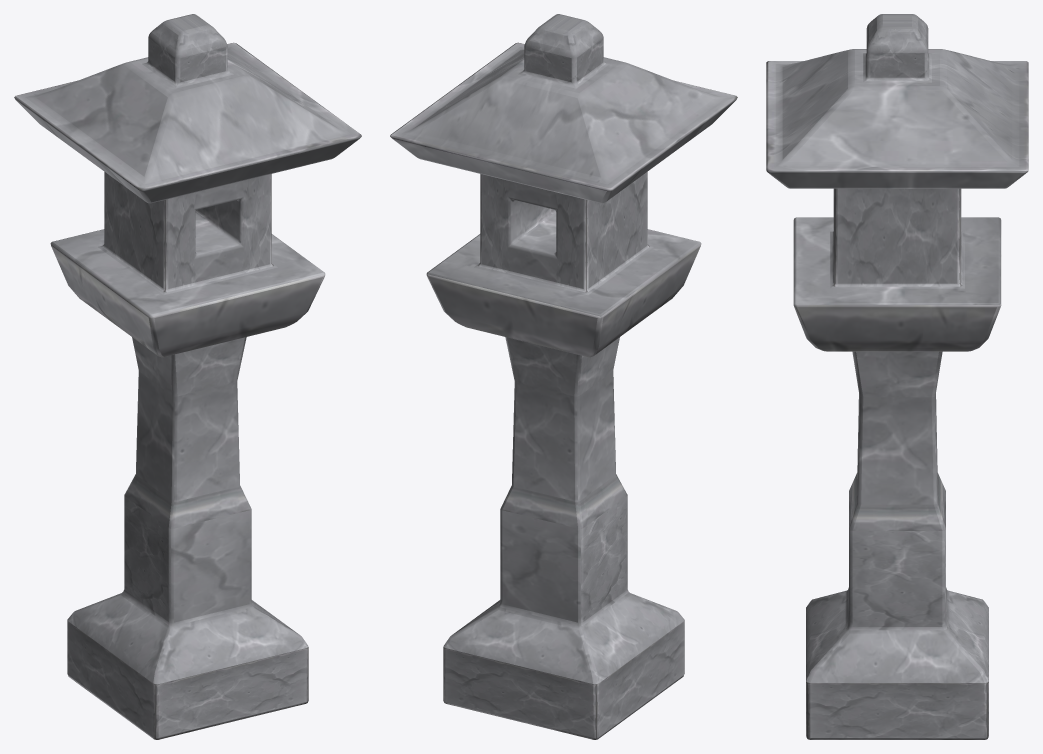
Rendered from stone_lantern2.fbx.
3 renders of one model, left to right at view 1: azimuth 30°, elevation 25°; view 2: azimuth 150°, elevation 25°; view 3: azimuth 270°, elevation 25°, orthographic. The views are drawn at different scales.
Visible parts, largest first — view 1: Cube_LOD0; view 2: Cube_LOD0; view 3: Cube_LOD0.
Boxes of the visible parts, box(x1,y1,x2,y2) form: Cube_LOD0: box(14, 14, 361, 739); Cube_LOD0: box(390, 14, 737, 739); Cube_LOD0: box(766, 14, 1028, 739).
Size of what is drawn, in the model's own units: 106 by 305 by 106.
